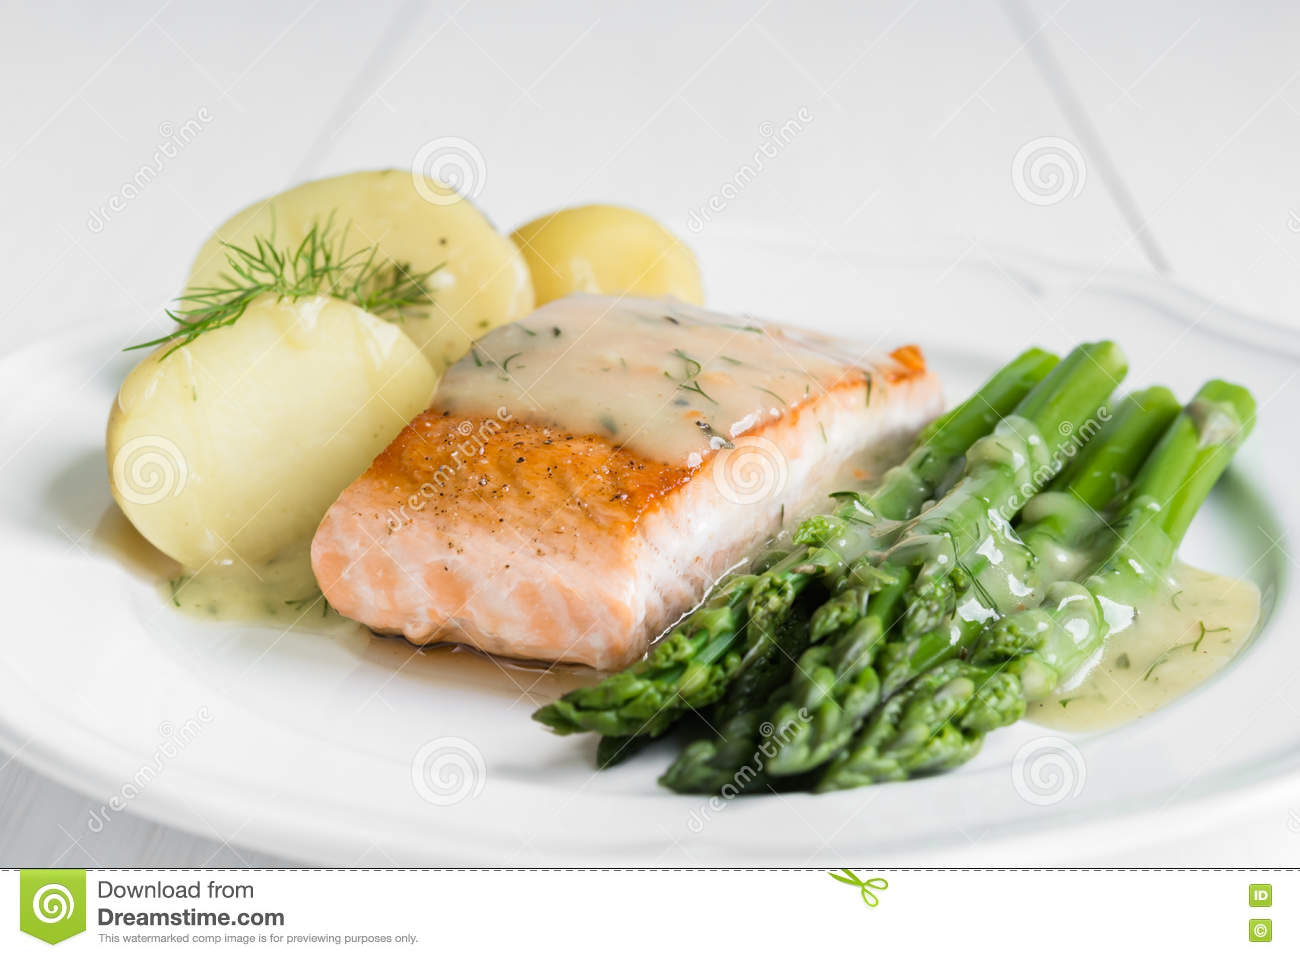boiled potatoes: (173, 215, 437, 465), (377, 205, 693, 295)
